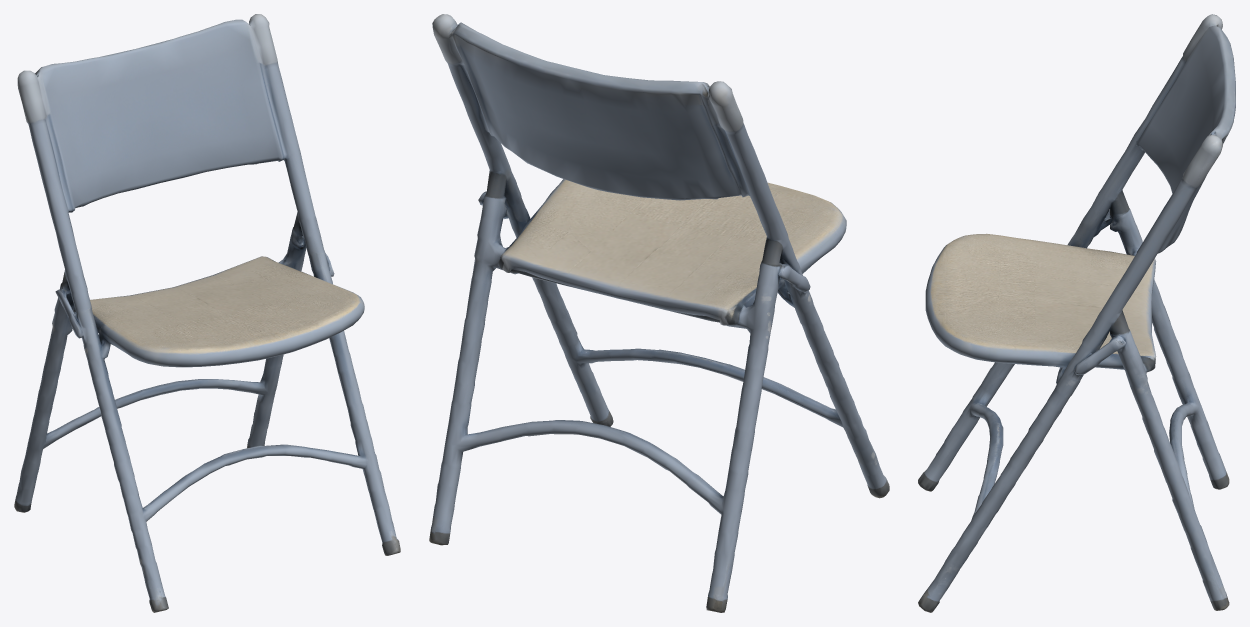
File: Chair_Ottochair_Shar_0320031623_texture.glb
3 renders of one model, left to right at view 1: azimuth 30°, elevation 25°; view 2: azimuth 150°, elevation 25°; view 3: azimuth 270°, elevation 25°, orthographic. The views are drawn at different scales.
Visible parts, largest first — view 1: Mesh_0; view 2: Mesh_0; view 3: Mesh_0.
Boxes of the visible parts, x1=… form: Mesh_0: x1=14, y1=14, x2=400, y2=612; Mesh_0: x1=429, y1=14, x2=889, y2=612; Mesh_0: x1=918, y1=14, x2=1235, y2=612.
Size of the model in its own units: 0.5539 by 0.9144 by 0.5539.
Materials: 1 (1 with a texture image).
